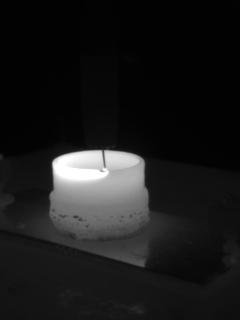tip_wire_left: (85, 143, 107, 171)
tip_wire_right: (103, 143, 116, 172)
